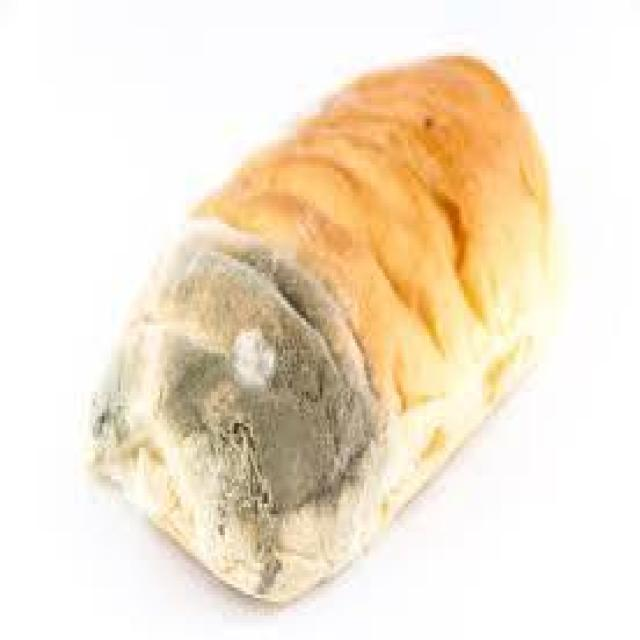organic: (86, 52, 557, 609)
